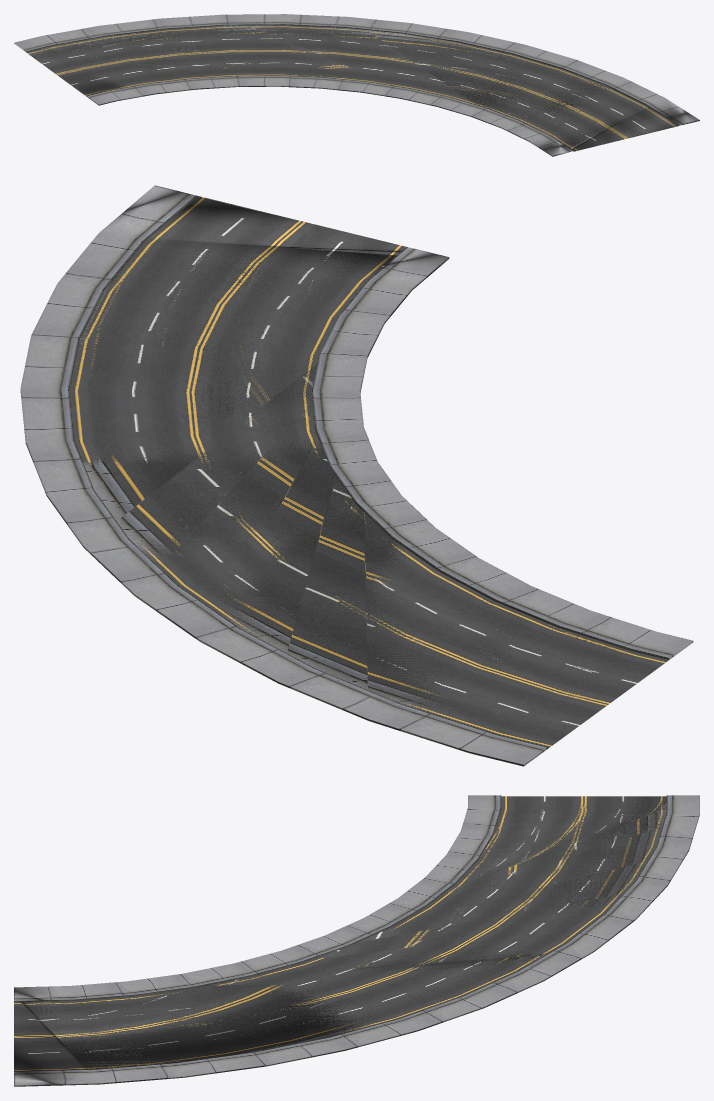
The picture shows the model from 3 angles, top to bottom: view 1: azimuth 30°, elevation 25°; view 2: azimuth 150°, elevation 25°; view 3: azimuth 270°, elevation 25°; orthographic projection. The views are drawn at different scales.
Visible parts, largest first — view 1: Road_2X_HalfCircle; view 2: Road_2X_HalfCircle; view 3: Road_2X_HalfCircle.
Part boxes in pixels (box(x1,y1,x2,y2)): Road_2X_HalfCircle: box(14, 14, 699, 156); Road_2X_HalfCircle: box(20, 185, 693, 766); Road_2X_HalfCircle: box(14, 795, 699, 1086).
Bounding box in the file's own units: 11210 × 20.45 × 11188.
